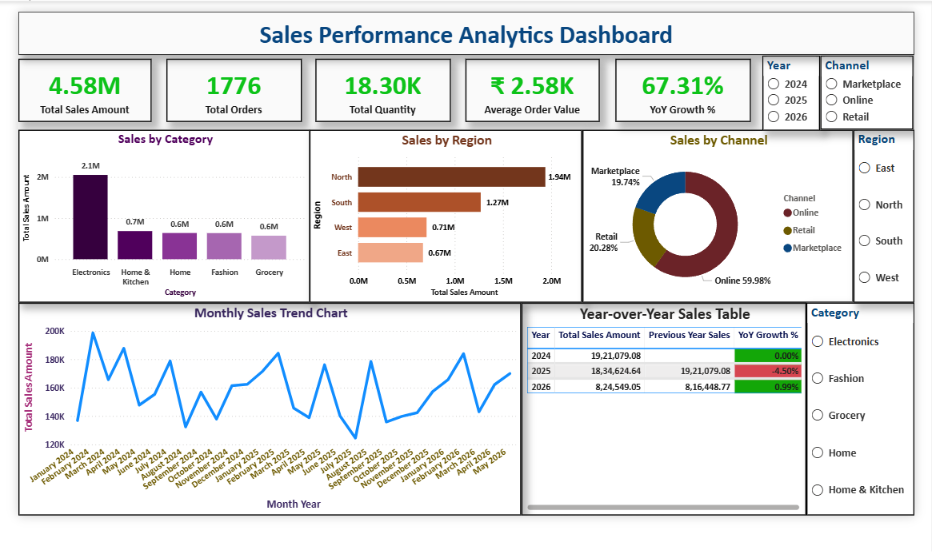

What the dashboard file says about the page in this screenshot:
{"tool":"powerbi","page":{"name":"Sales Performance Analytics Dashboard","canvas":[1280,720],"ordinal":0},"visuals":[{"type":"card","fields":{"Values":["Amazon_Sales_Messy_2000_Records.Total Sales Amount"]},"box":[0,67.2,190.7,90.6],"z":0},{"type":"card","fields":{"Values":["Amazon_Sales_Messy_2000_Records.Total Quantity"]},"box":[424,67.2,193.5,90.6],"z":1000},{"type":"card","fields":{"Values":["Amazon_Sales_Messy_2000_Records.Total Orders"]},"box":[212,67.2,193.5,90.6],"z":2000},{"type":"card","fields":{"Values":["Amazon_Sales_Messy_2000_Records.Average Orders Value"]},"box":[639,67.2,192.1,90.6],"z":3000},{"type":"tableEx","title":"Year-over-Year Sales Table","fields":{"Values":["Calendar.Year","Amazon_Sales_Messy_2000_Records.Total Sales Amount","Amazon_Sales_Messy_2000_Records.Previous Year Sales","Amazon_Sales_Messy_2000_Records.YoY Growth %"]},"box":[718.6,415.7,407.1,304.3],"z":4000},{"type":"lineChart","title":"Monthly Sales Trend Chart","fields":{"Category":["Calendar.Month Year"],"Y":["Amazon_Sales_Messy_2000_Records.Total Sales Amount"]},"box":[0,415.7,718.6,304.3],"z":5000},{"type":"clusteredColumnChart","title":"Sales by Category","fields":{"Category":["Amazon_Sales_Messy_2000_Records.Category"],"Y":["Amazon_Sales_Messy_2000_Records.Total Sales Amount"]},"box":[0,168.8,417.2,247],"z":6000},{"type":"clusteredBarChart","title":"Sales by Region","fields":{"Category":["Amazon_Sales_Messy_2000_Records.Region"],"Y":["Amazon_Sales_Messy_2000_Records.Total Sales Amount"]},"box":[415.8,168.8,389.7,247],"z":7000},{"type":"donutChart","title":"Sales by Channel","fields":{"Category":["Amazon_Sales_Messy_2000_Records.Channel"],"Y":["Amazon_Sales_Messy_2000_Records.Total Sales Amount"]},"box":[805.5,168.8,387,247],"z":8000},{"type":"listSlicer","fields":{"Values":["Calendar.Year"]},"box":[1063.5,63.1,82.3,107],"z":9000},{"type":"listSlicer","fields":{"Values":["Amazon_Sales_Messy_2000_Records.Category"]},"box":[1125.7,415.7,154.3,304.3],"z":10000},{"type":"listSlicer","fields":{"Values":["Amazon_Sales_Messy_2000_Records.Region"]},"box":[1192.9,168.6,87.1,247.1],"z":11000},{"type":"listSlicer","title":"Channel","fields":{"Values":["Amazon_Sales_Messy_2000_Records.Channel"]},"box":[1145.8,63.1,133.1,105.7],"z":12000},{"type":"card","fields":{"Values":["Amazon_Sales_Messy_2000_Records.Dashboard Title"]},"box":[0,0,1280,61.4],"z":13000},{"type":"card","fields":{"Values":["Amazon_Sales_Messy_2000_Records.YoY Growth %"]},"box":[853.5,67.2,193.5,90.6],"z":14001}]}

Visuals, with their boxes in screenshot pixels (x1, y1, x2, y2):
card - Amazon_Sales_Messy_2000_Records.Total Sales Amount: 24, 59, 156, 121
card - Amazon_Sales_Messy_2000_Records.Total Quantity: 318, 59, 452, 121
card - Amazon_Sales_Messy_2000_Records.Total Orders: 171, 59, 305, 121
card - Amazon_Sales_Messy_2000_Records.Average Orders Value: 467, 59, 600, 121
"Year-over-Year Sales Table" tableEx: 522, 300, 804, 511
"Monthly Sales Trend Chart" lineChart: 24, 300, 522, 511
"Sales by Category" clusteredColumnChart: 24, 129, 313, 300
"Sales by Region" clusteredBarChart: 312, 129, 582, 300
"Sales by Channel" donutChart: 582, 129, 850, 300
listSlicer - Calendar.Year: 761, 56, 818, 130
listSlicer - Amazon_Sales_Messy_2000_Records.Category: 804, 300, 911, 511
listSlicer - Amazon_Sales_Messy_2000_Records.Region: 850, 129, 911, 300
"Channel" listSlicer: 818, 56, 910, 129
card - Amazon_Sales_Messy_2000_Records.Dashboard Title: 24, 12, 911, 55
card - Amazon_Sales_Messy_2000_Records.YoY Growth %: 615, 59, 749, 121
